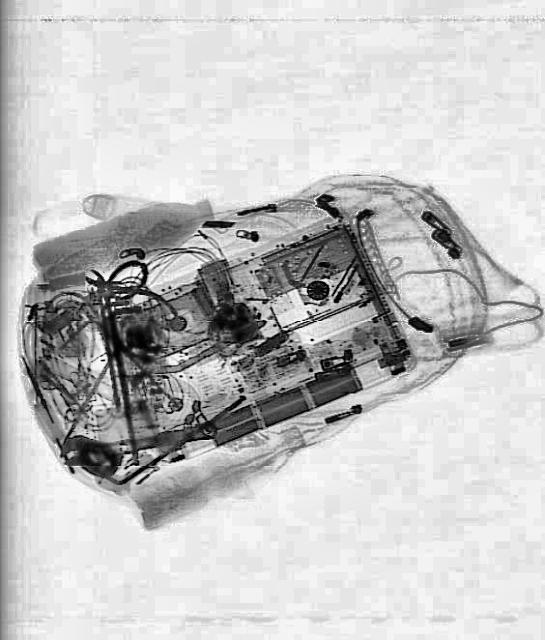Pliers: (66, 244, 184, 366)
Wrench: (55, 408, 219, 470)
